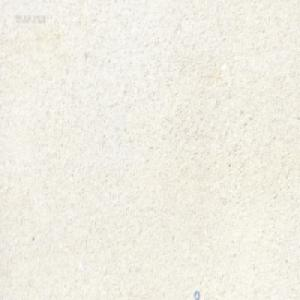Washer: (194, 289, 200, 299)
